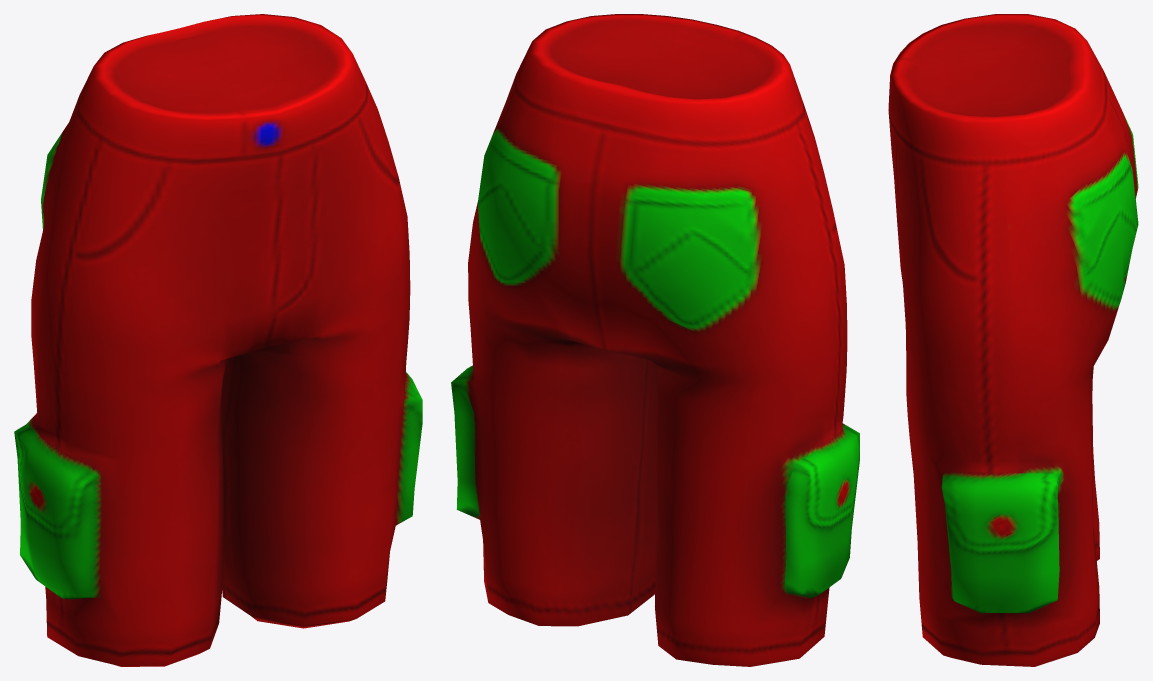
Rendered from Bottom_ExploringShorts.obj.
3 renders of one model, left to right at view 1: azimuth 30°, elevation 25°; view 2: azimuth 150°, elevation 25°; view 3: azimuth 270°, elevation 25°, orthographic. The views are drawn at different scales.
Visible parts, largest first — view 1: Bottom_ExploringShorts_0; view 2: Bottom_ExploringShorts_0; view 3: Bottom_ExploringShorts_0.
Part boxes in pixels (<box>): Bottom_ExploringShorts_0: <box>14,14,422,666</box>; Bottom_ExploringShorts_0: <box>451,14,859,666</box>; Bottom_ExploringShorts_0: <box>888,14,1138,666</box>.
Size of the model in its own units: 0.3963 by 0.566 by 0.2385.
1 material, 1 textured.
